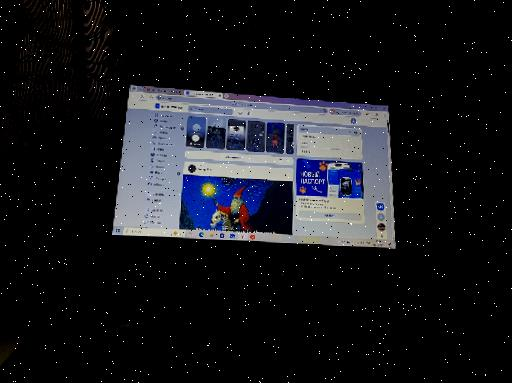vk: (124, 100, 393, 244)
